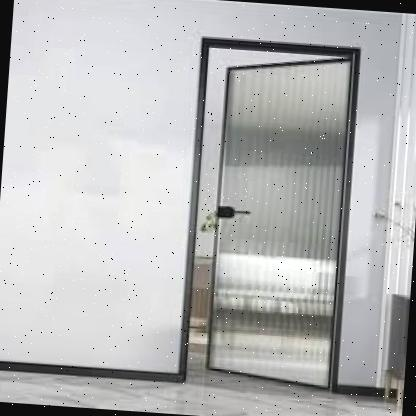door: (170, 27, 368, 400)
